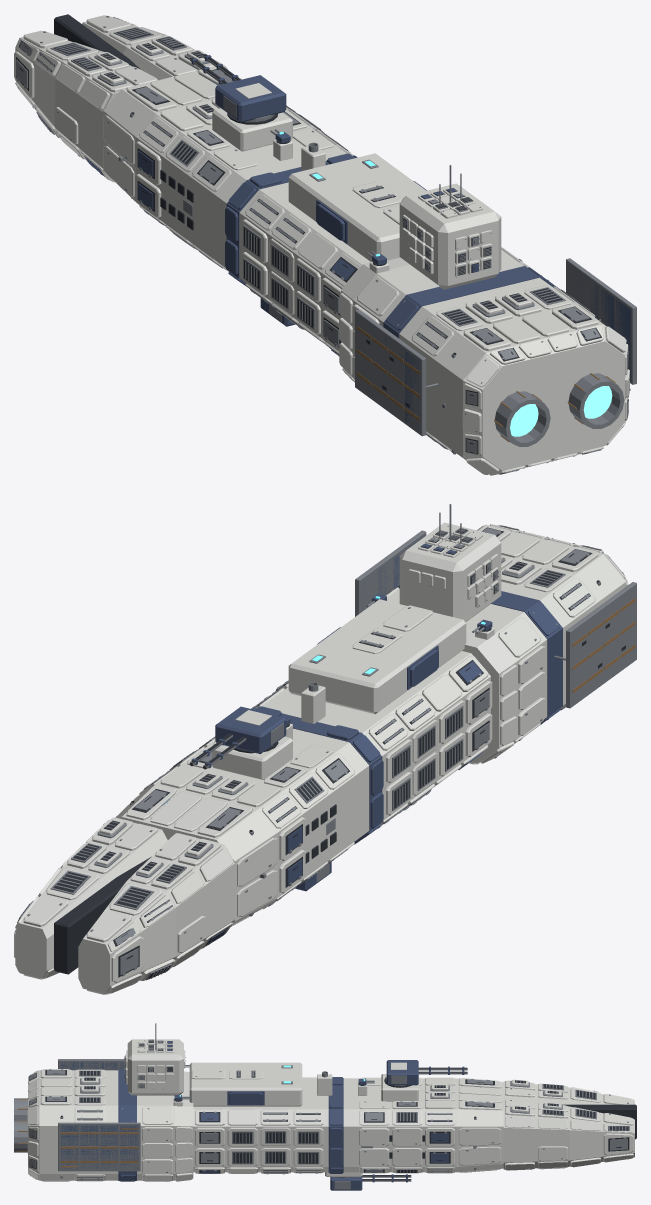
The model's file is earth_gun_cruiser_t4.glb.
The picture shows the model from 3 angles, top to bottom: view 1: azimuth 30°, elevation 25°; view 2: azimuth 150°, elevation 25°; view 3: azimuth 270°, elevation 25°; orthographic projection. The views are drawn at different scales.
Parts seen in each view (by area): view 1: FleetHull, mesh_turret_gun_1; view 2: FleetHull, mesh_turret_gun_1; view 3: FleetHull, mesh_turret_gun_1, mesh_turret_gun_2, mesh_recoil_gun_1, mesh_recoil_gun_2.
Part boxes in pixels (x1=…): FleetHull: x1=14, y1=14, x2=636, y2=475; mesh_turret_gun_1: x1=215, y1=75, x2=286, y2=122; FleetHull: x1=14, y1=504, x2=636, y2=994; mesh_turret_gun_1: x1=215, y1=706, x2=286, y2=753; FleetHull: x1=14, y1=1023, x2=636, y2=1181; mesh_turret_gun_1: x1=386, y1=1060, x2=418, y2=1086; mesh_turret_gun_2: x1=330, y1=1176, x2=362, y2=1190; mesh_recoil_gun_1: x1=418, y1=1066, x2=467, y2=1074; mesh_recoil_gun_2: x1=362, y1=1174, x2=411, y2=1182.
Size of the model in its own units: 82.12 by 94.7 by 331.
